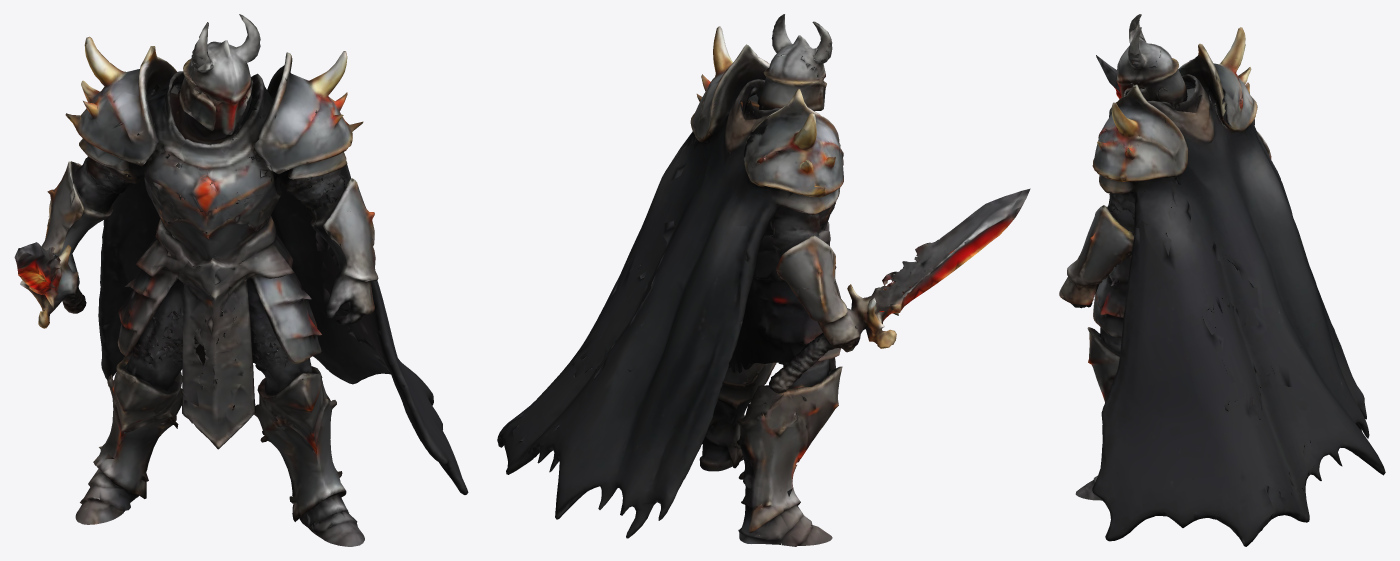
Rendered from fig_boss_malakor.glb.
3 renders of one model, left to right at view 1: azimuth 30°, elevation 25°; view 2: azimuth 150°, elevation 25°; view 3: azimuth 270°, elevation 25°, orthographic. The views are drawn at different scales.
Visible parts, largest first — view 1: geometry_0; view 2: geometry_0; view 3: geometry_0.
Part boxes in pixels (box(x1,y1,x2,y2)): geometry_0: box(14, 14, 468, 546); geometry_0: box(497, 14, 1030, 546); geometry_0: box(1059, 14, 1385, 546).
Size of the model in its own units: 0.9027 by 0.894 by 0.6081.
Materials: 1 (1 with a texture image).
